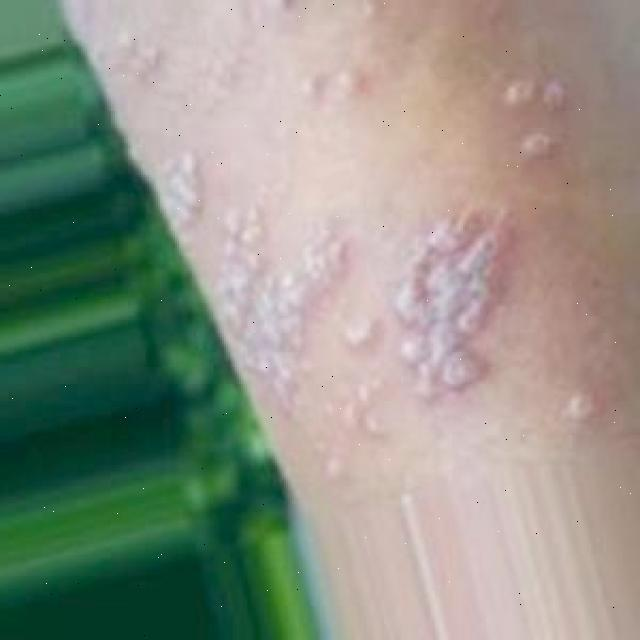Shingles: (337, 206, 513, 434), (205, 199, 350, 422), (499, 73, 566, 162), (146, 150, 207, 227), (560, 390, 603, 425)
